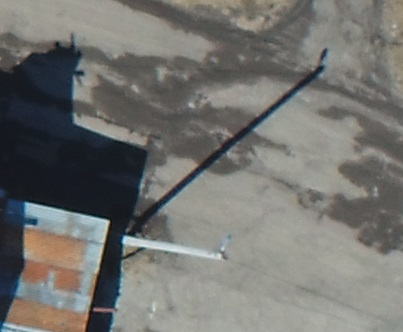opora: (121, 193, 236, 261)
